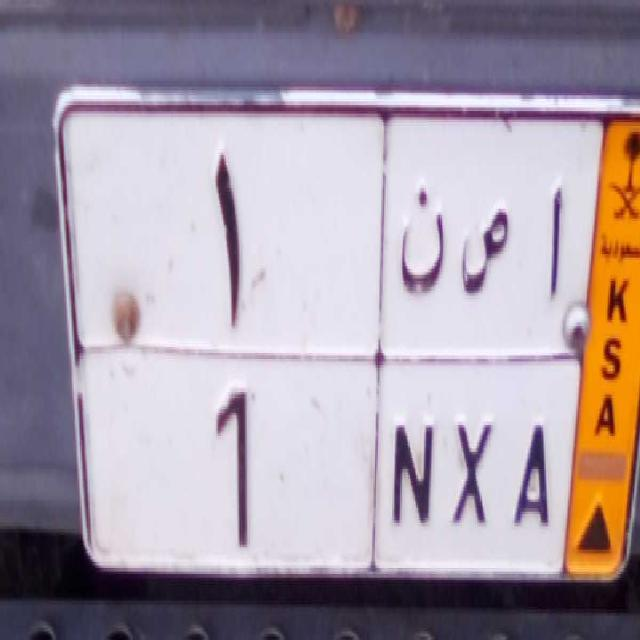license_plate: (76, 346, 574, 582)
